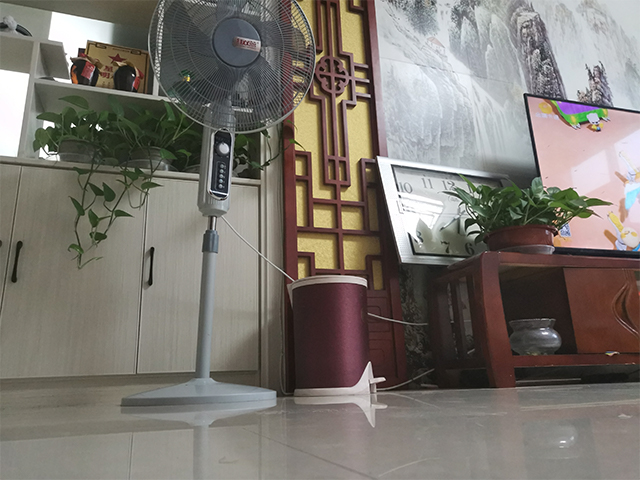cabinet: (1, 1, 288, 395), (423, 247, 640, 394)
trashcan: (282, 272, 389, 398)
wire: (375, 312, 429, 398)
